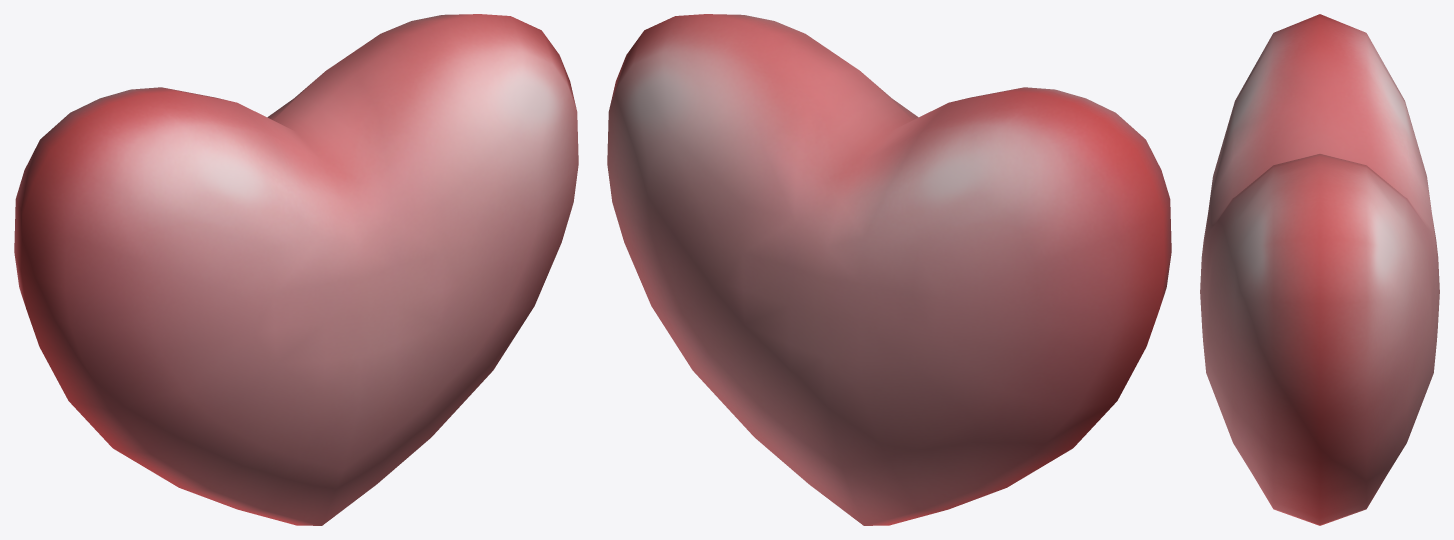
The model's file is Xin.FBX.
3 views of the same model, side by side, from view 1: azimuth 30°, elevation 25°; view 2: azimuth 150°, elevation 25°; view 3: azimuth 270°, elevation 25° (orthographic). The views are drawn at different scales.
Visible parts, largest first — view 1: default; view 2: default; view 3: default.
Boxes of the visible parts, x1=… form: default: x1=14, y1=14, x2=578, y2=525; default: x1=607, y1=14, x2=1171, y2=525; default: x1=1200, y1=14, x2=1439, y2=525.
Bounding box in the file's own units: 51.27 × 41.64 × 21.23.
1 material, 1 textured.
